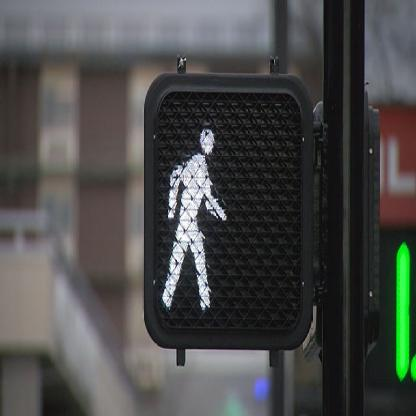Walk: (145, 75, 316, 347)
